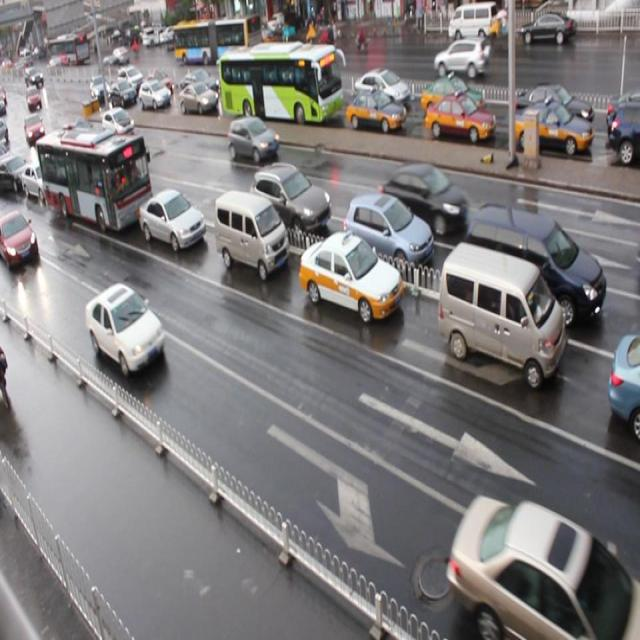car: (447, 488, 629, 640), (299, 228, 402, 322), (85, 280, 165, 378), (343, 194, 433, 278), (382, 163, 466, 239), (252, 163, 332, 234), (513, 100, 593, 158), (137, 186, 205, 251), (425, 92, 496, 142), (607, 331, 640, 436), (508, 84, 583, 128), (422, 76, 487, 120), (345, 86, 405, 133), (228, 116, 280, 166), (1, 208, 38, 272), (352, 68, 408, 110), (608, 98, 640, 160), (601, 92, 640, 136), (21, 158, 59, 202), (179, 83, 219, 115), (1, 152, 32, 193), (87, 138, 122, 174), (244, 69, 280, 103), (139, 79, 171, 112), (186, 69, 223, 97), (103, 108, 133, 140), (119, 64, 145, 94), (110, 81, 136, 109), (143, 68, 170, 94), (66, 120, 92, 146)
truck: (437, 240, 565, 388), (466, 201, 605, 330), (212, 187, 288, 280)
van: (36, 126, 154, 234), (216, 42, 340, 124)
